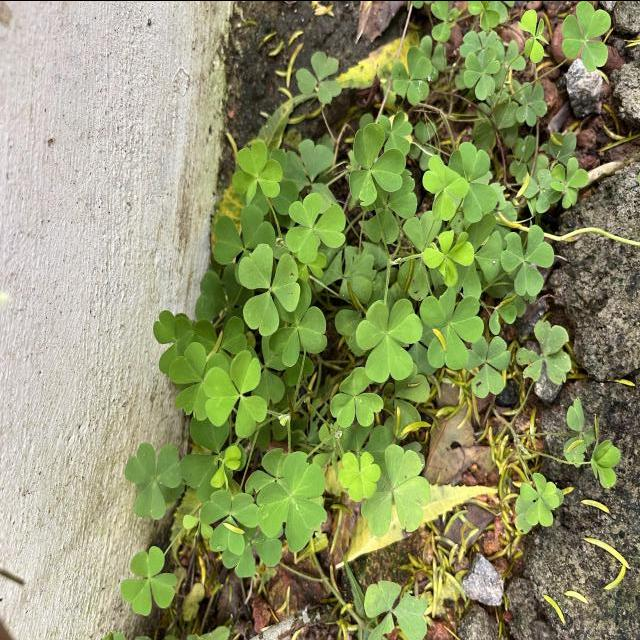Oxalis corniculata: (256, 448, 328, 554), (361, 442, 432, 538), (354, 296, 424, 382), (237, 242, 301, 336), (204, 348, 268, 438), (418, 286, 484, 369), (348, 121, 407, 207), (123, 439, 183, 521), (284, 190, 346, 263), (120, 544, 178, 617), (498, 222, 554, 296), (198, 488, 258, 556), (515, 318, 572, 386), (560, 0, 612, 72), (230, 139, 284, 206), (328, 365, 384, 427), (422, 152, 469, 220), (463, 333, 511, 398), (422, 228, 475, 286), (392, 44, 434, 106), (338, 448, 382, 502), (462, 44, 502, 100), (548, 156, 590, 208), (516, 8, 550, 64)
